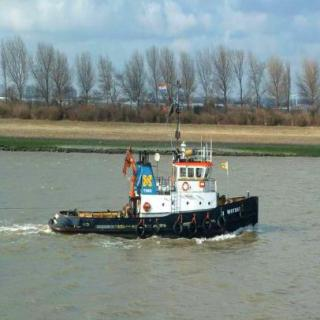Tug Boat: (65, 126, 258, 240)
